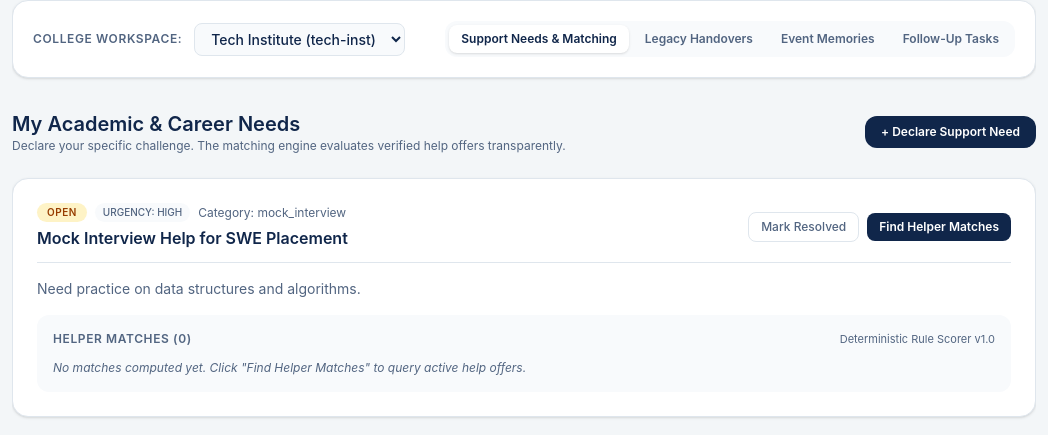
it: LegacyMatchingPanel › renders needs, switches subtabs, and displays declared needs
This screenshot has width=1048, height=435.
Expected: the button "Support Needs & Matching" is shown, x1=449 y1=25 x2=629 y2=53
Expected: the button "Event Memories" is shown, x1=769 y1=25 x2=887 y2=53
Note: Switch to Legacy Handovers subtab
What coordinates should you click on to do the following:
click the button "Legacy Handovers"
I would click on:
 (699, 39)
Its box is x1=633 y1=25 x2=765 y2=53.
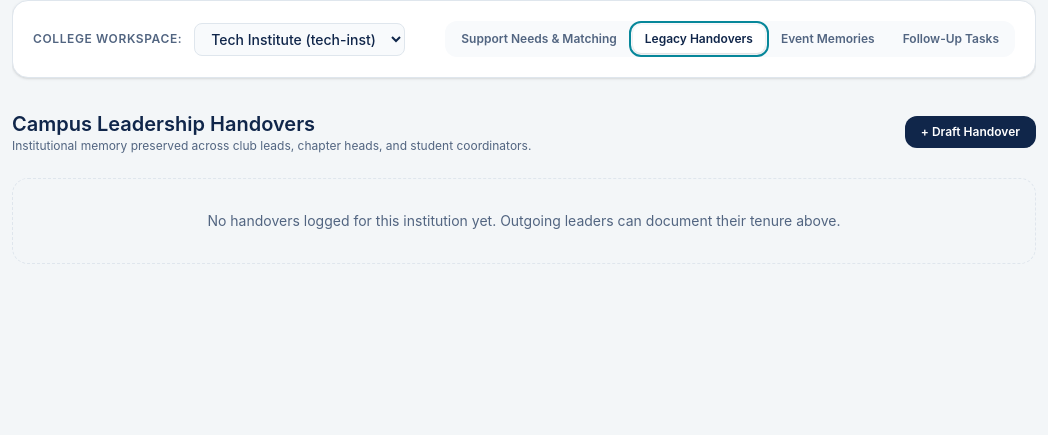
Now the heading "Campus Leadership Handovers" is shown, box x1=12 y1=112 x2=315 y2=136
